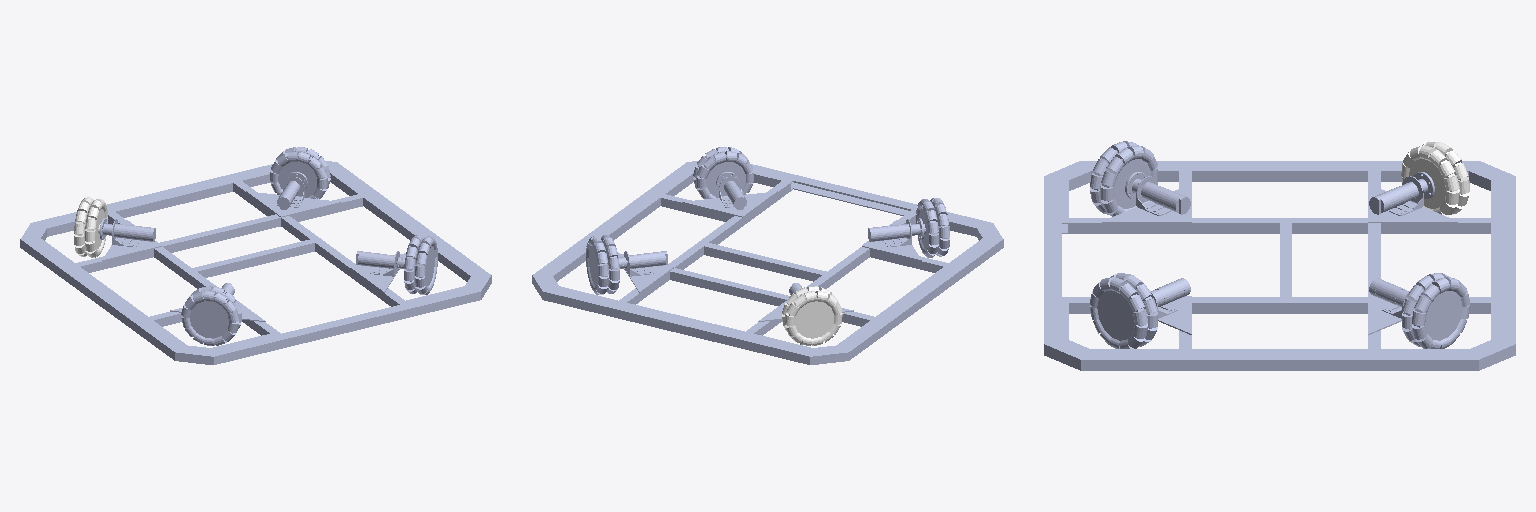
robot.urdf — Final_assembly_robocon1:
<?xml version="1.0" encoding="utf-8"?>
<!-- This URDF was automatically created by SolidWorks to URDF Exporter! Originally created by [author] ([email redacted]) 
     Commit Version: 1.6.0-1-g15f4949  Build Version: 1.6.7594.29634
     For more information, please see http://wiki.ros.org/sw_urdf_exporter -->
<robot
  name="Final_assembly_robocon1">
  <link
    name="base_link">
    <inertial>
      <origin
        xyz="-1.37853384098331E-07 0.00911018032229258 -0.0138175795946178"
        rpy="0 0 0" />
      <mass
        value="3.33742395913258" />
      <inertia
        ixx="0.250426120078326"
        ixy="-3.00125460809131E-08"
        ixz="4.78803539427229E-09"
        iyy="0.51613258114542"
        iyz="-5.01539743876125E-05"
        izz="0.266376294317245" />
    </inertial>
    <visual>
      <origin
        xyz="0 0 0"
        rpy="0 0 0" />
      <geometry>
        <mesh
          filename="package://Final_assembly_robocon1/meshes/base_link.STL" />
      </geometry>
      <material
        name="">
        <color
          rgba="0.792156862745098 0.819607843137255 0.933333333333333 1" />
      </material>
    </visual>
    <collision>
      <origin
        xyz="0 0 0"
        rpy="0 0 0" />
      <geometry>
        <mesh
          filename="package://Final_assembly_robocon1/meshes/base_link.STL" />
      </geometry>
    </collision>
  </link>
  <link
    name="front_left">
    <inertial>
      <origin
        xyz="-5.5511E-17 1.0408E-16 0.11113"
        rpy="0 0 0" />
      <mass
        value="0.80093" />
      <inertia
        ixx="0.0012851"
        ixy="1.3067E-18"
        ixz="-5.9631E-19"
        iyy="0.0012851"
        iyz="5.2252E-19"
        izz="0.0025006" />
    </inertial>
    <visual>
      <origin
        xyz="0 0 0"
        rpy="0 0 0" />
      <geometry>
        <mesh
          filename="package://Final_assembly_robocon1/meshes/front_left.STL" />
      </geometry>
      <material
        name="">
        <color
          rgba="0.79216 0.81961 0.93333 1" />
      </material>
    </visual>
    <collision>
      <origin
        xyz="0 0 0"
        rpy="0 0 0" />
      <geometry>
        <mesh
          filename="package://Final_assembly_robocon1/meshes/front_left.STL" />
      </geometry>
    </collision>
  </link>
  <joint
    name="front_left_joint"
    type="continuous">
    <origin
      xyz="0.29871 -0.29871 0.0442"
      rpy="1.5708 -0.008552 0.7854" />
    <parent
      link="base_link" />
    <child
      link="front_left" />
    <axis
      xyz="0 0 1" />
    <limit
      effort="10"
      velocity="10" />
    <dynamics
      damping="1000"
      friction="1000" />
  </joint>
  <link
    name="front_right">
    <inertial>
      <origin
        xyz="-2.7756E-17 8.3267E-17 0.00097337"
        rpy="0 0 0" />
      <mass
        value="0.80093" />
      <inertia
        ixx="0.0012851"
        ixy="9.6743E-19"
        ixz="-1.0842E-19"
        iyy="0.0012851"
        iyz="-3.8401E-19"
        izz="0.0025006" />
    </inertial>
    <visual>
      <origin
        xyz="0 0 0"
        rpy="0 0 0" />
      <geometry>
        <mesh
          filename="package://Final_assembly_robocon1/meshes/front_right.STL" />
      </geometry>
      <material
        name="">
        <color
          rgba="0.79216 0.81961 0.93333 1" />
      </material>
    </visual>
    <collision>
      <origin
        xyz="0 0 0"
        rpy="0 0 0" />
      <geometry>
        <mesh
          filename="package://Final_assembly_robocon1/meshes/front_right.STL" />
      </geometry>
    </collision>
  </link>
  <joint
    name="front_right_joint"
    type="continuous">
    <origin
      xyz="-0.29871 -0.29871 0.0442"
      rpy="0.016141 0.036849 -0.78477" />
    <parent
      link="base_link" />
    <child
      link="front_right" />
    <axis
      xyz="-0.00062478 -0.99987 0.016117" />
    <limit
      effort="10"
      velocity="10" />
    <dynamics
      damping="1000"
      friction="1000" />
  </joint>
  <link
    name="back_left">
    <inertial>
      <origin
        xyz="2.7756E-17 9.7145E-17 0.00097337"
        rpy="0 0 0" />
      <mass
        value="0.80093" />
      <inertia
        ixx="0.0012851"
        ixy="1.2468E-18"
        ixz="2.7105E-19"
        iyy="0.0012851"
        iyz="-2.6834E-18"
        izz="0.0025006" />
    </inertial>
    <visual>
      <origin
        xyz="0 0 0"
        rpy="0 0 0" />
      <geometry>
        <mesh
          filename="package://Final_assembly_robocon1/meshes/back_left.STL" />
      </geometry>
      <material
        name="">
        <color
          rgba="0.79216 0.81961 0.93333 1" />
      </material>
    </visual>
    <collision>
      <origin
        xyz="0 0 0"
        rpy="0 0 0" />
      <geometry>
        <mesh
          filename="package://Final_assembly_robocon1/meshes/back_left.STL" />
      </geometry>
    </collision>
  </link>
  <joint
    name="back_left_joint"
    type="continuous">
    <origin
      xyz="0.29871 0.29871 0.0442"
      rpy="0.016141 0.036849 -0.78477" />
    <parent
      link="base_link" />
    <child
      link="back_left" />
    <axis
      xyz="0.00062478 0.99987 -0.016117" />
    <limit
      effort="10"
      velocity="10" />
    <dynamics
      damping="1000"
      friction="1000" />
  </joint>
  <link
    name="back_right">
    <inertial>
      <origin
        xyz="0 0 0"
        rpy="0 0 0" />
      <mass
        value="0" />
      <inertia
        ixx="0"
        ixy="0"
        ixz="0"
        iyy="0"
        iyz="0"
        izz="0" />
    </inertial>
    <visual>
      <origin
        xyz="0 0 0"
        rpy="0 0 0" />
      <geometry>
        <mesh
          filename="package://Final_assembly_robocon1/meshes/back_right.STL" />
      </geometry>
      <material
        name="">
        <color
          rgba="1 1 1 1" />
      </material>
    </visual>
    <collision>
      <origin
        xyz="0 0 0"
        rpy="0 0 0" />
      <geometry>
        <mesh
          filename="package://Final_assembly_robocon1/meshes/back_right.STL" />
      </geometry>
    </collision>
  </link>
  <joint
    name="back_right_joint"
    type="continuous">
    <origin
      xyz="-0.29871 0.29871 0.0442"
      rpy="1.5708 -0.008552 0.7854" />
    <parent
      link="base_link" />
    <child
      link="back_right" />
    <axis
      xyz="0 0 -1" />
    <limit
      effort="10"
      velocity="10" />
    <dynamics
      damping="1000"
      friction="1000" />
  </joint>
</robot>

--- Facts derived from the render (not from the file) ---
The picture shows the robot from 3 angles, left to right: view 1: azimuth 30°, elevation 25°; view 2: azimuth 150°, elevation 25°; view 3: azimuth 270°, elevation 25°; orthographic projection.
Robot: Final_assembly_robocon1 — 5 links, 4 joints (4 continuous); root link base_link; default pose: all joints at 0.
Links seen in each view (by area): view 1: base_link, front_right, back_left, front_left, back_right; view 2: base_link, back_right, front_left, back_left, front_right; view 3: base_link, back_left, front_left, front_right, back_right.
Boxes of the visible links, <box> form: base_link: <box>20,161,491,364</box>; front_right: <box>181,286,241,345</box>; back_left: <box>270,147,330,198</box>; front_left: <box>404,235,437,294</box>; back_right: <box>74,197,107,257</box>; base_link: <box>532,161,1003,364</box>; back_right: <box>782,286,842,345</box>; front_left: <box>693,147,753,198</box>; back_left: <box>586,235,619,294</box>; front_right: <box>916,198,949,257</box>; base_link: <box>1044,161,1515,370</box>; back_left: <box>1402,273,1469,348</box>; front_left: <box>1090,273,1157,348</box>; front_right: <box>1090,141,1157,216</box>; back_right: <box>1401,142,1469,216</box>.
Bounding box of the posed robot: 0.9708 × 0.9708 × 0.1592 m (x, y, z).
Meshes: 5 distinct files referenced, 5 mesh visuals loaded (5 binary STL).